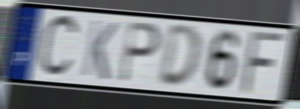6: (205, 28, 243, 94)
C: (36, 12, 82, 83)
D: (156, 23, 202, 92)
F: (238, 30, 289, 96)
K: (80, 17, 120, 83)
P: (117, 19, 163, 86)
